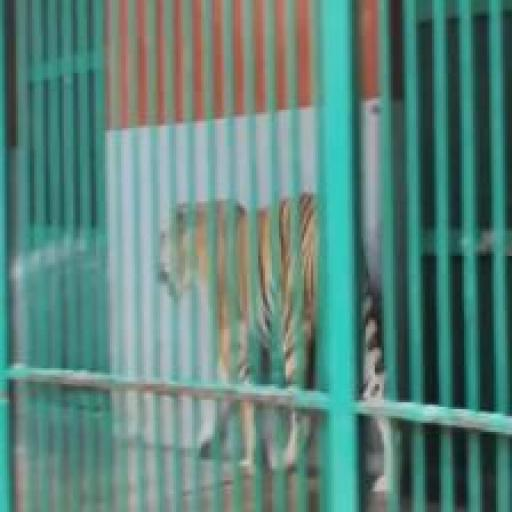Tiger: (135, 132, 404, 500)
